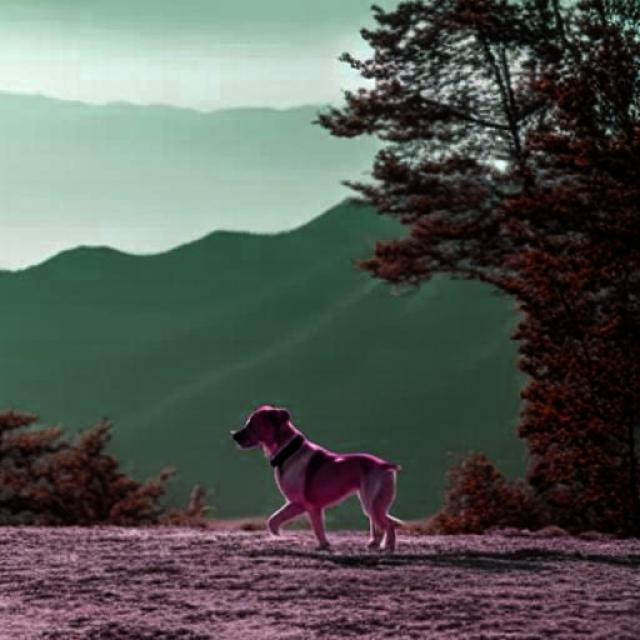Dog: (230, 406, 405, 554)
